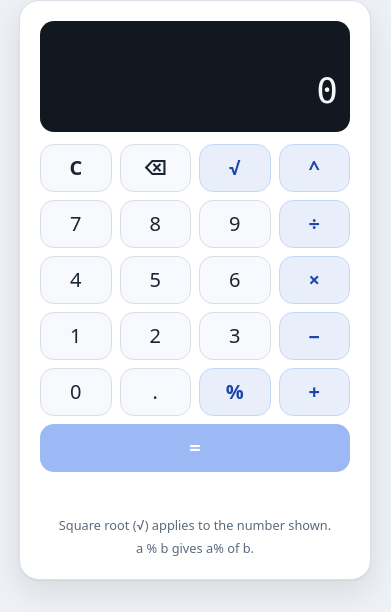
Scenario: Calculator › shows the result the service computed
This screenshot has width=391, height=612.
Click the button named "One" at [76, 336], box [40,312,112,360]
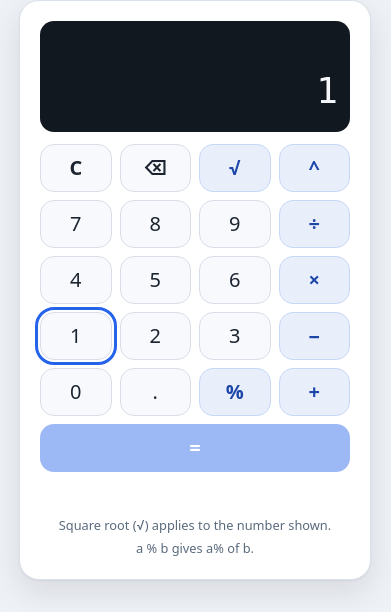
Click the button named "Zero" at [76, 392], box [40,368,112,416]
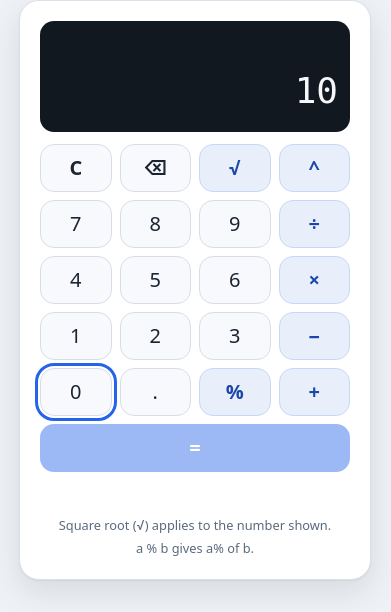
Click the button named "Divide" at [314, 224], box [278,200,350,248]
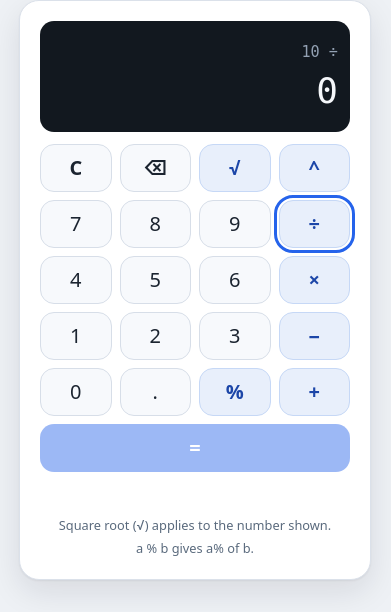
Click the button named "Four" at [76, 280], box [40,256,112,304]
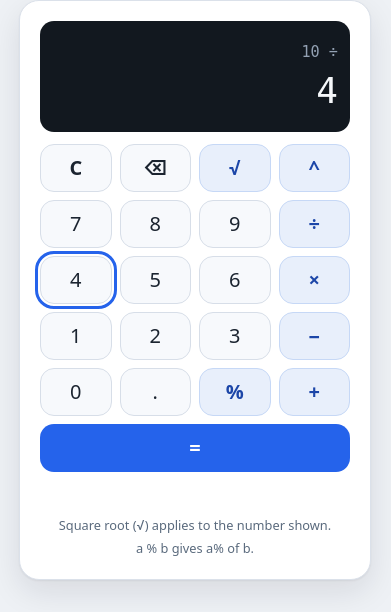
Click the button named "Equals" at [195, 448], box [40,424,350,472]
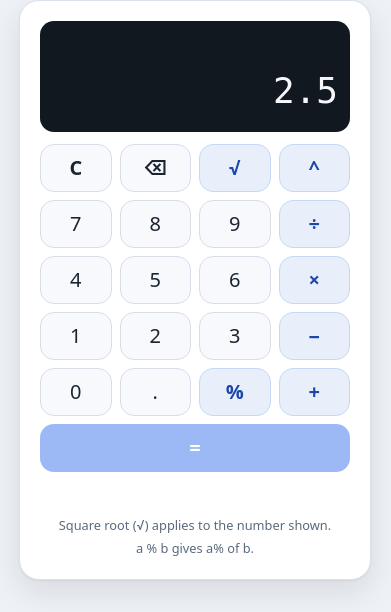
Now the text "2.5" is shown, box [273,70,338,111]
